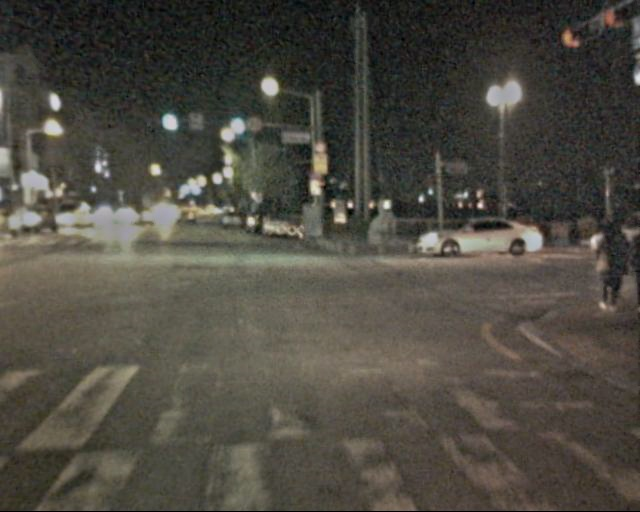person: (585, 219, 630, 315)
